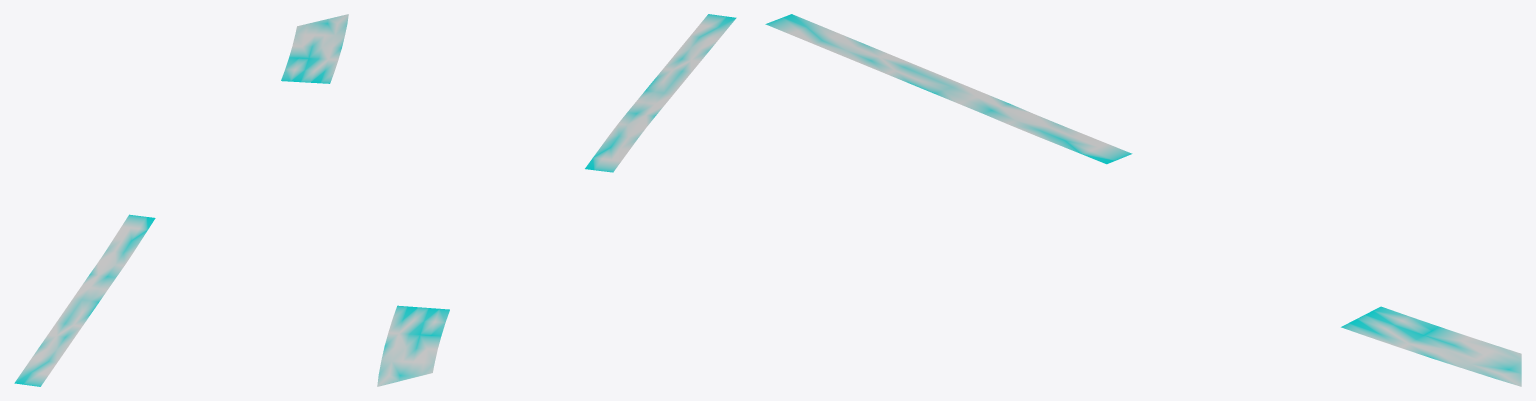
The picture shows the model from 3 angles, left to right: view 1: azimuth 30°, elevation 25°; view 2: azimuth 210°, elevation 25°; view 3: azimuth 270°, elevation 25°; orthographic projection. The views are drawn at different scales.
Parts seen in each view (by area): view 1: SpaceCenter_Long3_GenerateRoad_Asphalt_PCGMesh_Decal_Mesh_x1; view 2: SpaceCenter_Long3_GenerateRoad_Asphalt_PCGMesh_Decal_Mesh_x1; view 3: SpaceCenter_Long3_GenerateRoad_Asphalt_PCGMesh_Decal_Mesh_x1.
Part boxes in pixels (left/top/right/bottom): SpaceCenter_Long3_GenerateRoad_Asphalt_PCGMesh_Decal_Mesh_x1: left=14, top=14, right=348, bottom=386; SpaceCenter_Long3_GenerateRoad_Asphalt_PCGMesh_Decal_Mesh_x1: left=377, top=14, right=736, bottom=386; SpaceCenter_Long3_GenerateRoad_Asphalt_PCGMesh_Decal_Mesh_x1: left=765, top=14, right=1521, bottom=386.
Size of the model in its own units: 758 by 924 by 22.66.
